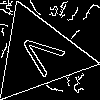V: (13, 29, 74, 84)
